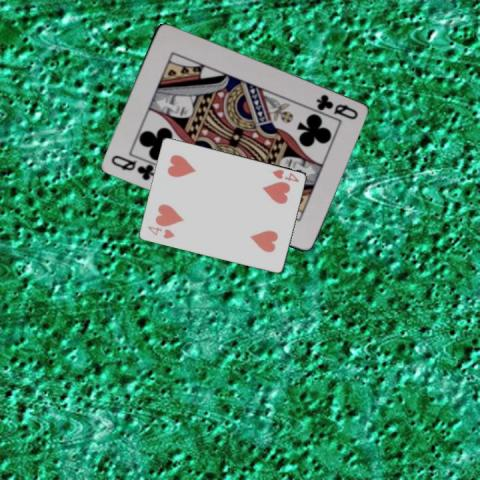4h: (145, 223, 176, 240), (269, 167, 300, 184)
Qc: (108, 152, 156, 182), (313, 92, 359, 122)
